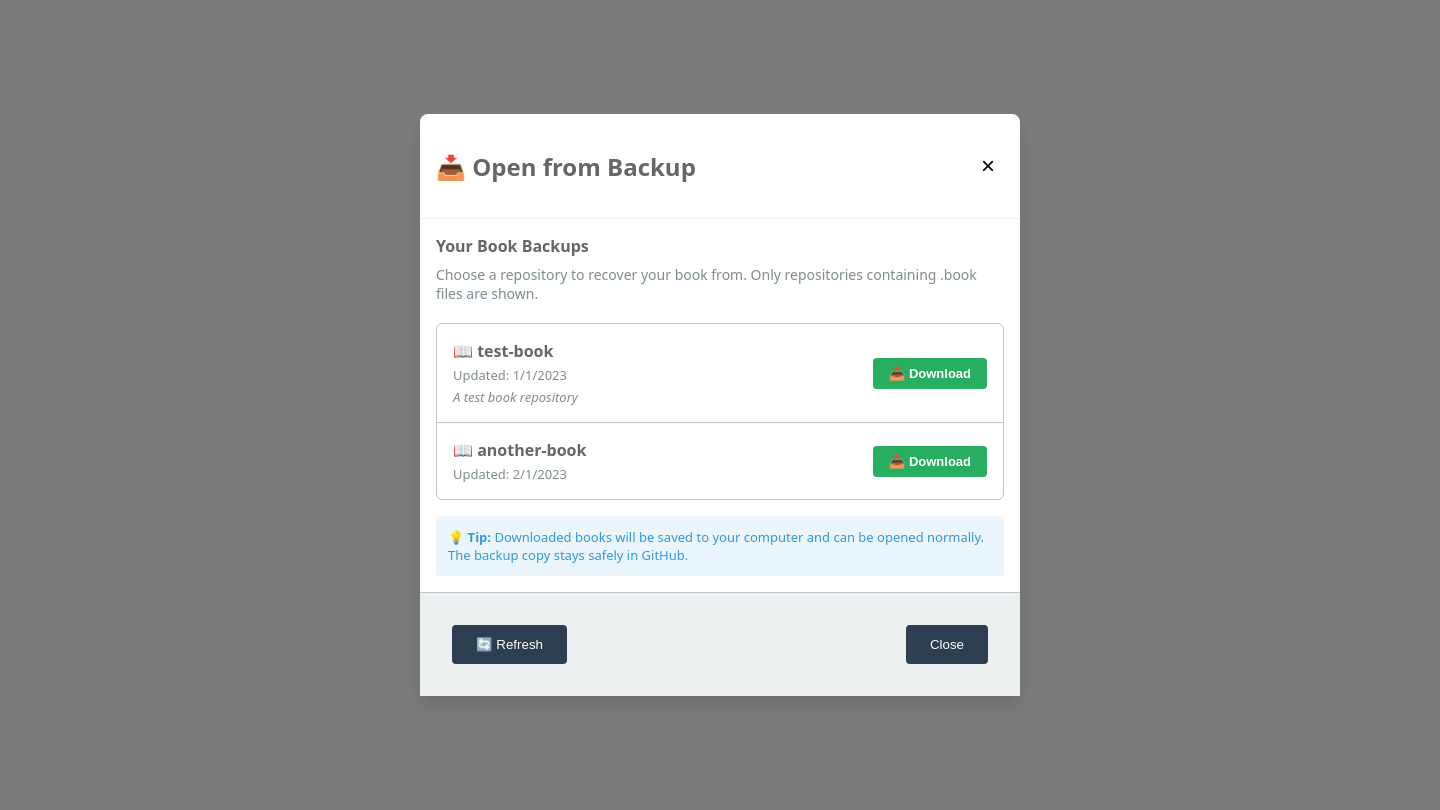
Scenario: BackupRecovery › when authenticated › downloading books › handles save failure
Expected: the heading "📖 test-book" is shown, left=453, top=340, right=554, bottom=362
Click the button "📥 Download" in the row of "1/1/2023". click: (930, 373)
box: left=873, top=358, right=987, bottom=389
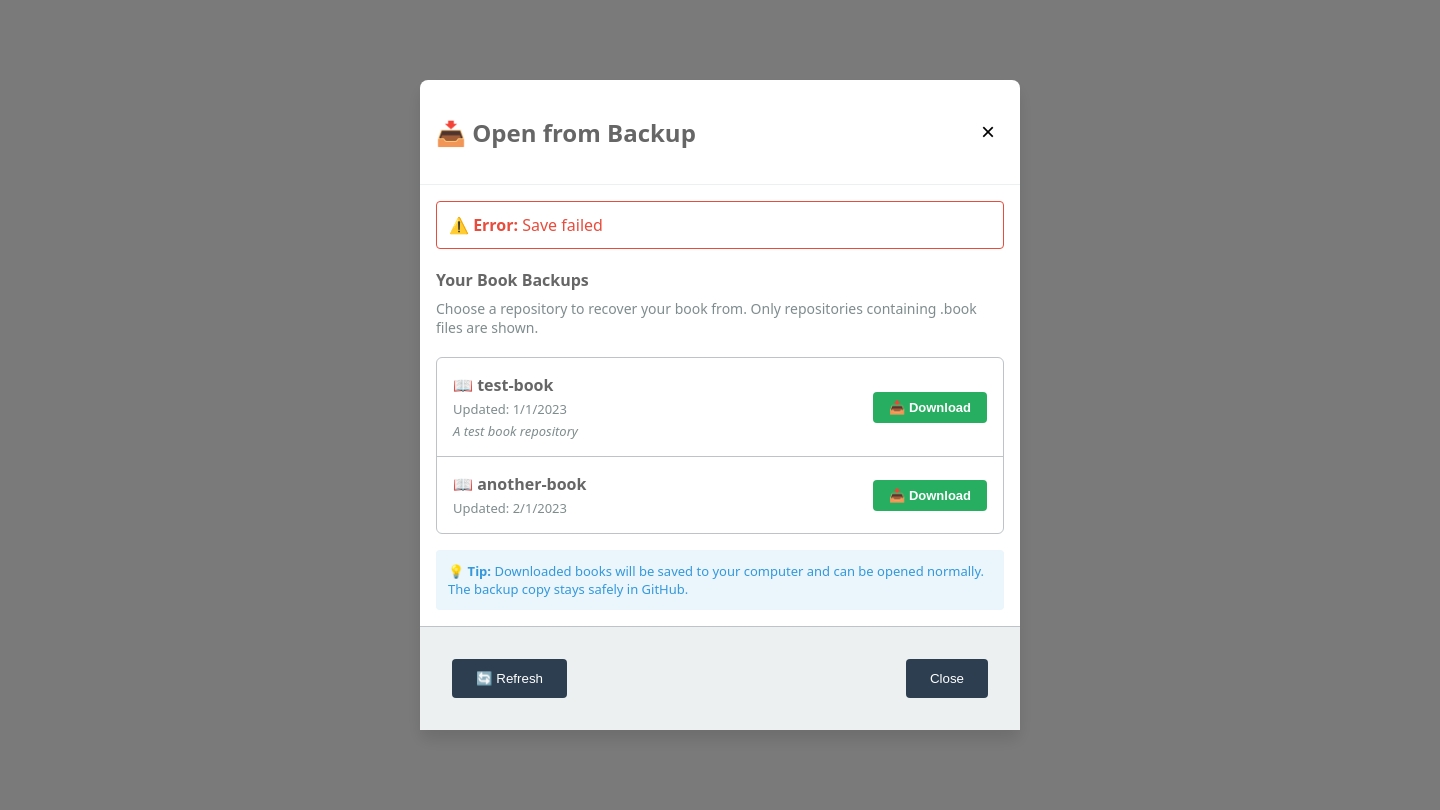
Now the text "⚠️ Error:" is shown, box left=449, top=214, right=518, bottom=236
Now the text "Save failed" is shown, box left=522, top=214, right=603, bottom=236
